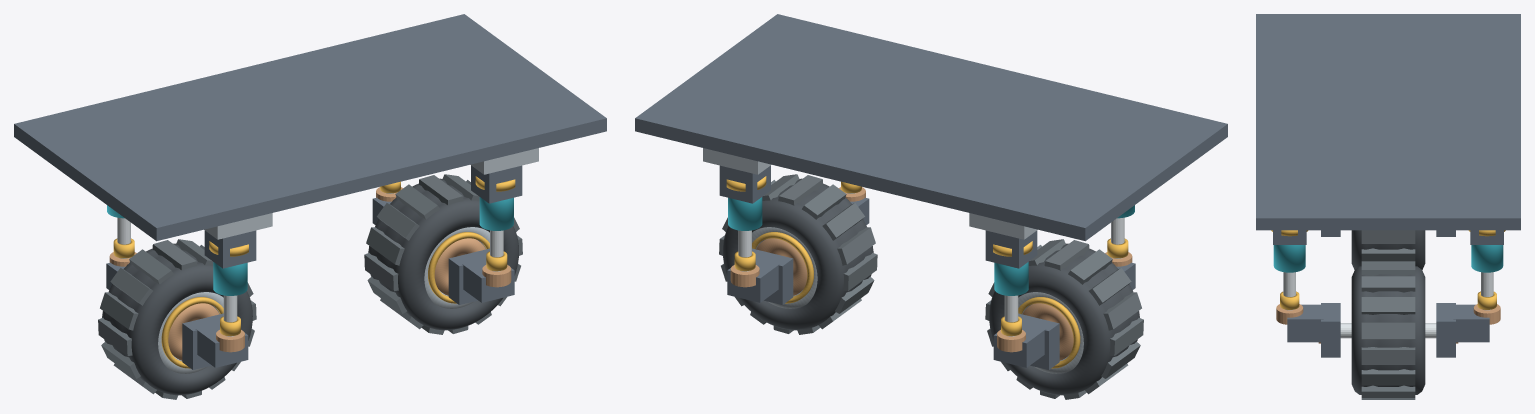
Rendered from M02-007_animated.glb.
The picture shows the model from 3 angles, left to right: view 1: azimuth 30°, elevation 25°; view 2: azimuth 150°, elevation 25°; view 3: azimuth 270°, elevation 25°; orthographic projection. The views are drawn at different scales.
Visible parts, largest first — view 1: M02-007_00_Underside_Mount_Plate, M02-007_L_Roller_Rubber, M02-007_R_Roller_Rubber, M02-007_L_NEG_Upper_Clevis, M02-007_R_NEG_Upper_Clevis, M02-007_R_NEG_Lower_Link, M02-007_L_NEG_Lower_Link, M02-007_R_NEG_Axle_Ear, M02-007_L_NEG_Axle_Ear, M02-007_L_Hollow_Hub, M02-007_L_NEG_Damper_Housing, M02-007_R_NEG_Damper_Housing (+19 smaller); view 2: M02-007_00_Underside_Mount_Plate, M02-007_L_Roller_Rubber, M02-007_R_Roller_Rubber, M02-007_L_POS_Upper_Clevis, M02-007_R_POS_Upper_Clevis, M02-007_R_POS_Lower_Link, M02-007_L_POS_Lower_Link, M02-007_R_POS_Axle_Ear, M02-007_L_POS_Axle_Ear, M02-007_L_Hollow_Hub, M02-007_L_POS_Damper_Housing, M02-007_R_POS_Damper_Housing (+19 smaller); view 3: M02-007_00_Underside_Mount_Plate, M02-007_R_Roller_Rubber, M02-007_R_NEG_Lower_Link, M02-007_R_POS_Lower_Link, M02-007_L_Roller_Rubber, M02-007_R_NEG_Axle_Ear, M02-007_R_POS_Axle_Ear, M02-007_R_Raised_Tread_00, M02-007_R_Raised_Tread_01, M02-007_R_Raised_Tread_02, M02-007_R_Raised_Tread_15, M02-007_R_Raised_Tread_03 (+15 smaller).
Part boxes in pixels (box(x1,y1,x2,y2)): M02-007_00_Underside_Mount_Plate: box(14, 14, 606, 241); M02-007_L_Roller_Rubber: box(102, 243, 252, 395); M02-007_R_Roller_Rubber: box(368, 178, 518, 330); M02-007_L_NEG_Upper_Clevis: box(204, 230, 256, 268); M02-007_R_NEG_Upper_Clevis: box(471, 165, 522, 203); M02-007_R_NEG_Lower_Link: box(462, 258, 514, 302); M02-007_L_NEG_Lower_Link: box(196, 323, 248, 367); M02-007_R_NEG_Axle_Ear: box(448, 248, 489, 304); M02-007_L_NEG_Axle_Ear: box(182, 313, 223, 369); M02-007_L_Hollow_Hub: box(168, 303, 219, 360); M02-007_L_NEG_Damper_Housing: box(213, 262, 247, 295); M02-007_R_NEG_Damper_Housing: box(479, 197, 513, 230); M02-007_00_Underside_Mount_Plate: box(635, 14, 1227, 241); M02-007_L_Roller_Rubber: box(989, 243, 1139, 395); M02-007_R_Roller_Rubber: box(723, 178, 873, 330); M02-007_L_POS_Upper_Clevis: box(985, 230, 1037, 268); M02-007_R_POS_Upper_Clevis: box(719, 165, 770, 203); M02-007_R_POS_Lower_Link: box(727, 258, 779, 302); M02-007_L_POS_Lower_Link: box(993, 323, 1045, 367); M02-007_R_POS_Axle_Ear: box(752, 248, 793, 304); M02-007_L_POS_Axle_Ear: box(1018, 313, 1059, 369); M02-007_L_Hollow_Hub: box(1022, 303, 1073, 360); M02-007_L_POS_Damper_Housing: box(994, 262, 1028, 295); M02-007_R_POS_Damper_Housing: box(728, 197, 762, 230); M02-007_00_Underside_Mount_Plate: box(1256, 14, 1520, 230); M02-007_R_Roller_Rubber: box(1351, 266, 1425, 394); M02-007_R_NEG_Lower_Link: box(1287, 304, 1323, 342); M02-007_R_POS_Lower_Link: box(1453, 304, 1489, 342); M02-007_L_Roller_Rubber: box(1351, 230, 1425, 269); M02-007_R_NEG_Axle_Ear: box(1321, 303, 1340, 357); M02-007_R_POS_Axle_Ear: box(1436, 303, 1455, 357); M02-007_R_Raised_Tread_00: box(1361, 347, 1415, 364); M02-007_R_Raised_Tread_01: box(1361, 322, 1415, 339); M02-007_R_Raised_Tread_02: box(1361, 297, 1415, 314); M02-007_R_Raised_Tread_15: box(1361, 369, 1415, 385); M02-007_R_Raised_Tread_03: box(1361, 276, 1415, 292).
Bounding box in the file's own units: 1.15 × 0.5705 × 0.63.
